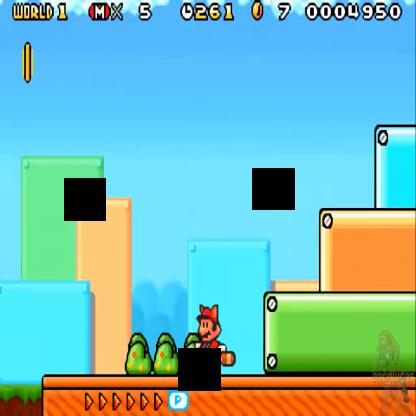Mario: (191, 302, 236, 378)
moneda: (20, 40, 36, 86), (250, 2, 265, 24)
